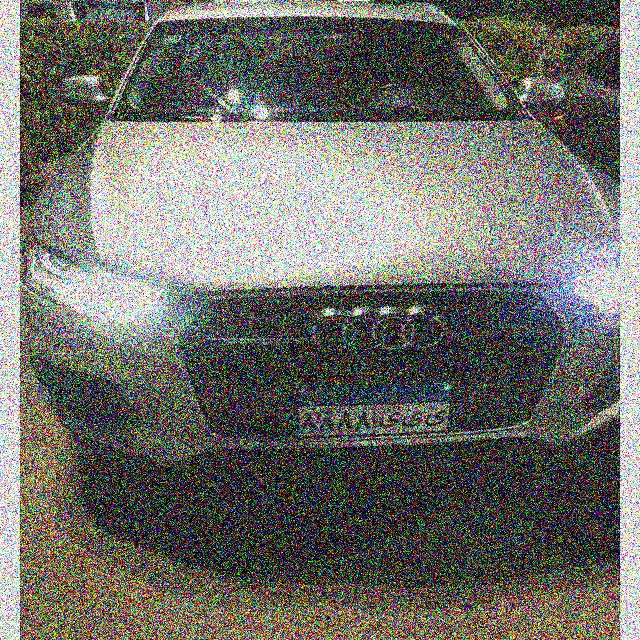License Plate: (294, 381, 456, 440)
